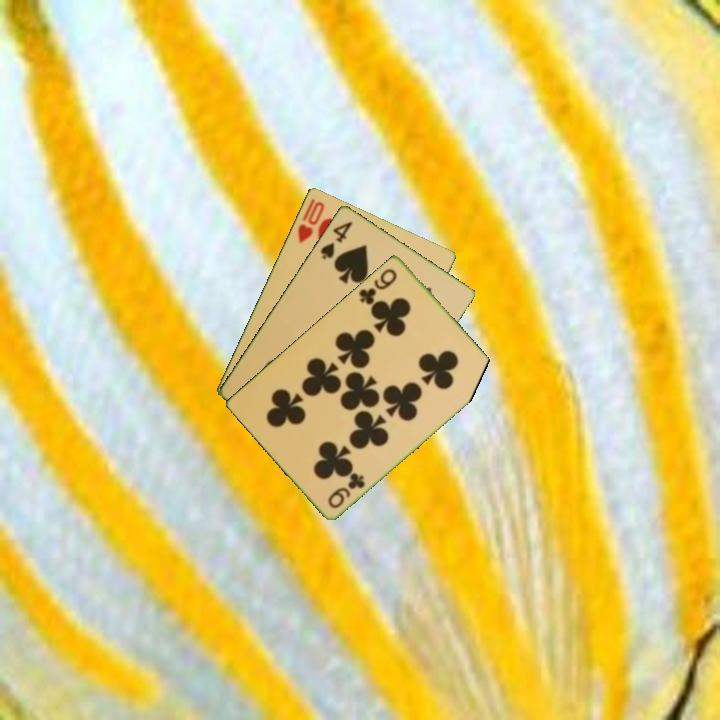10h: (294, 195, 327, 246)
4s: (316, 217, 356, 262)
9c: (355, 264, 400, 307), (324, 469, 368, 511)
